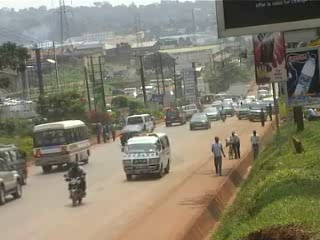Car: (0, 152, 28, 207), (118, 120, 148, 150), (164, 104, 189, 127), (187, 109, 211, 132), (203, 105, 220, 123), (222, 101, 235, 119), (211, 98, 224, 110)
Motorcycle: (62, 165, 86, 207), (219, 107, 227, 121)
